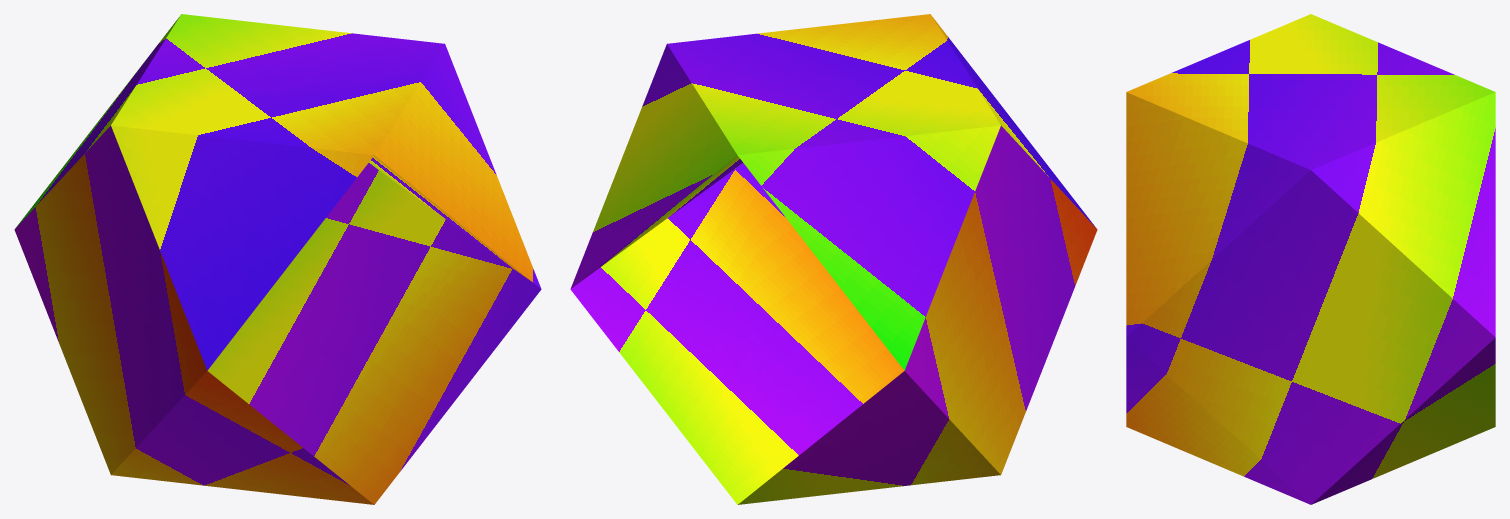
File: cuboctahedron_with_hole.obj
3 views of the same model, side by side, from view 1: azimuth 30°, elevation 25°; view 2: azimuth 150°, elevation 25°; view 3: azimuth 270°, elevation 25° (orthographic). The views are drawn at different scales.
Visible parts, largest first — view 1: cuboctahedron_with_hole; view 2: cuboctahedron_with_hole; view 3: cuboctahedron_with_hole.
Part boxes in pixels (x1,y1,x2,y2): cuboctahedron_with_hole: (14,14,541,504); cuboctahedron_with_hole: (570,14,1097,504); cuboctahedron_with_hole: (1126,14,1495,504).
Size of the model in its own units: 2 by 2 by 2.
1 material, 1 textured.
